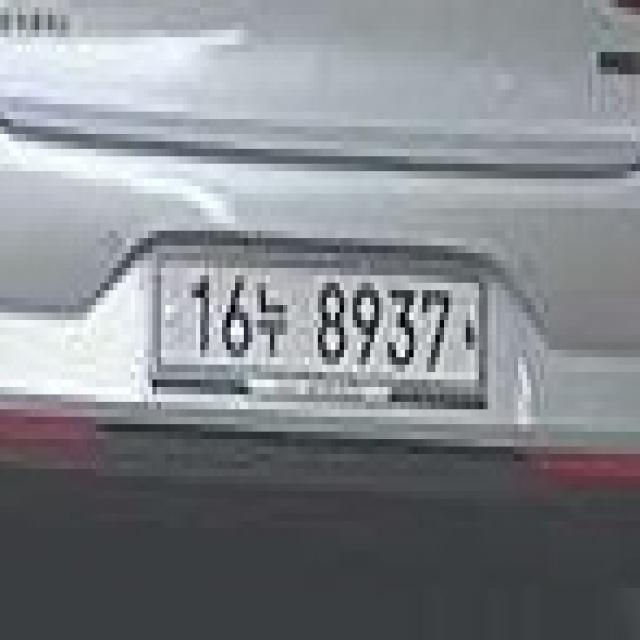1: (183, 261, 222, 372)
3: (383, 275, 418, 387)
6: (218, 261, 257, 372)
7: (418, 283, 457, 379)
8: (309, 268, 348, 372)
9: (348, 268, 383, 379)
license_plate: (148, 246, 501, 439)
nu: (252, 275, 292, 365)
